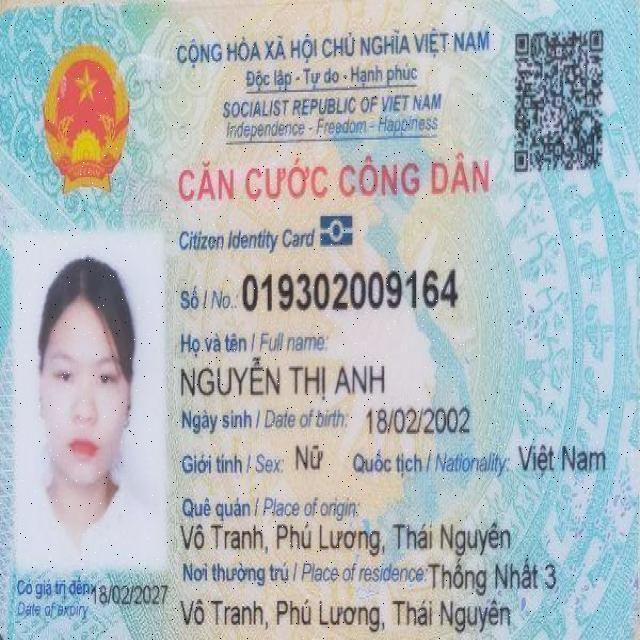current_place: (175, 597, 514, 637), (427, 557, 558, 591)
dob: (364, 401, 473, 440)
expire_date: (89, 582, 171, 606)
gender: (292, 437, 325, 480)
id: (235, 263, 459, 316)
name: (176, 356, 397, 398)
nationality: (507, 439, 633, 478)
origin_place: (179, 518, 514, 557)
qr: (508, 27, 616, 174)
